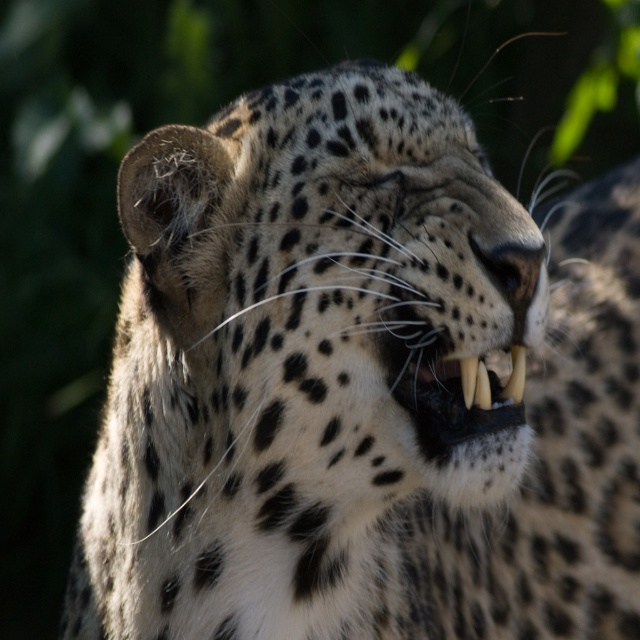Jaguar: (58, 30, 640, 639)
